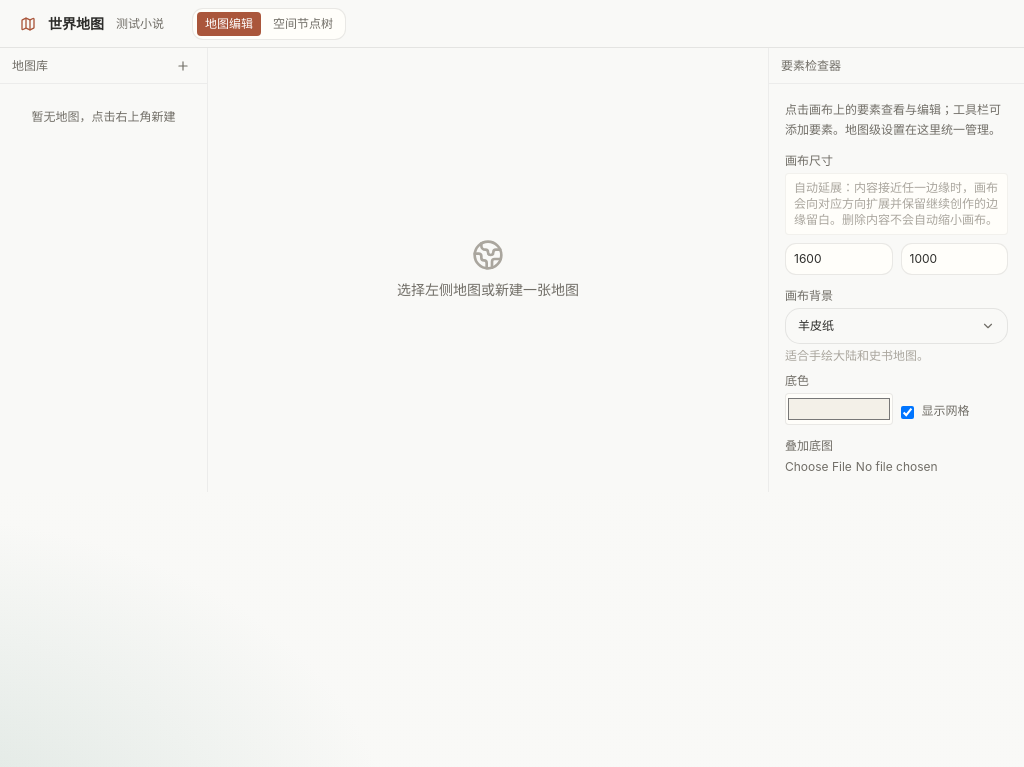
Test: MapEditor（地图阶段验收） › 空项目渲染地图库空态，可创建地图并进入编辑
Expected: the button "地图编辑" is shown, [197,12,261,36]
Expected: the text "暂无地图，点击右上角新建" is shown, [32,109,176,124]
Click the button titled "新建地图" at (183,66), box [171,54,195,78]
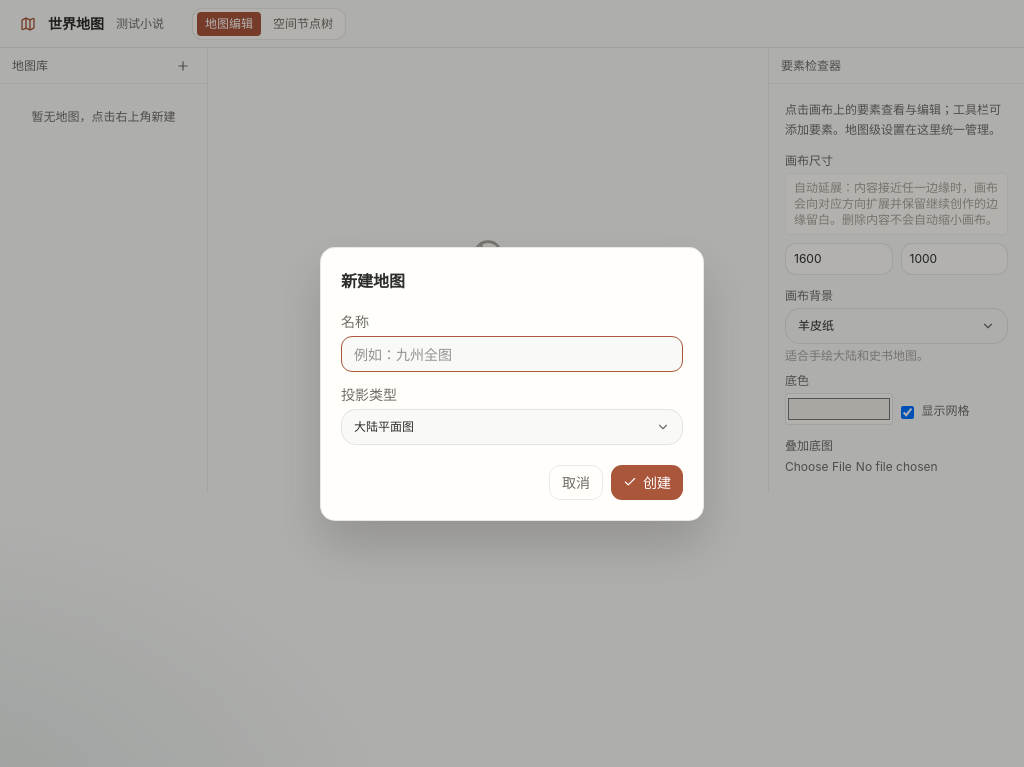
Type "九州" into the field with placeholder "例如：九州全图" at (512,354), box [341,336,683,372]
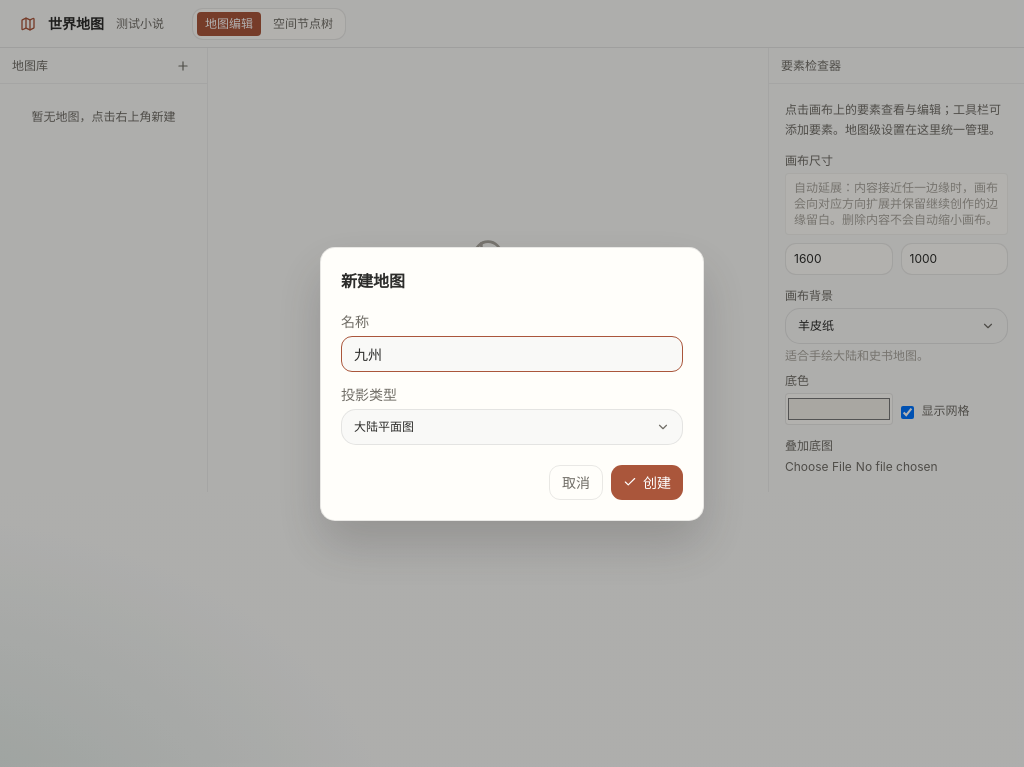
Click the button "创建" at (647,482), box [611,465,683,500]
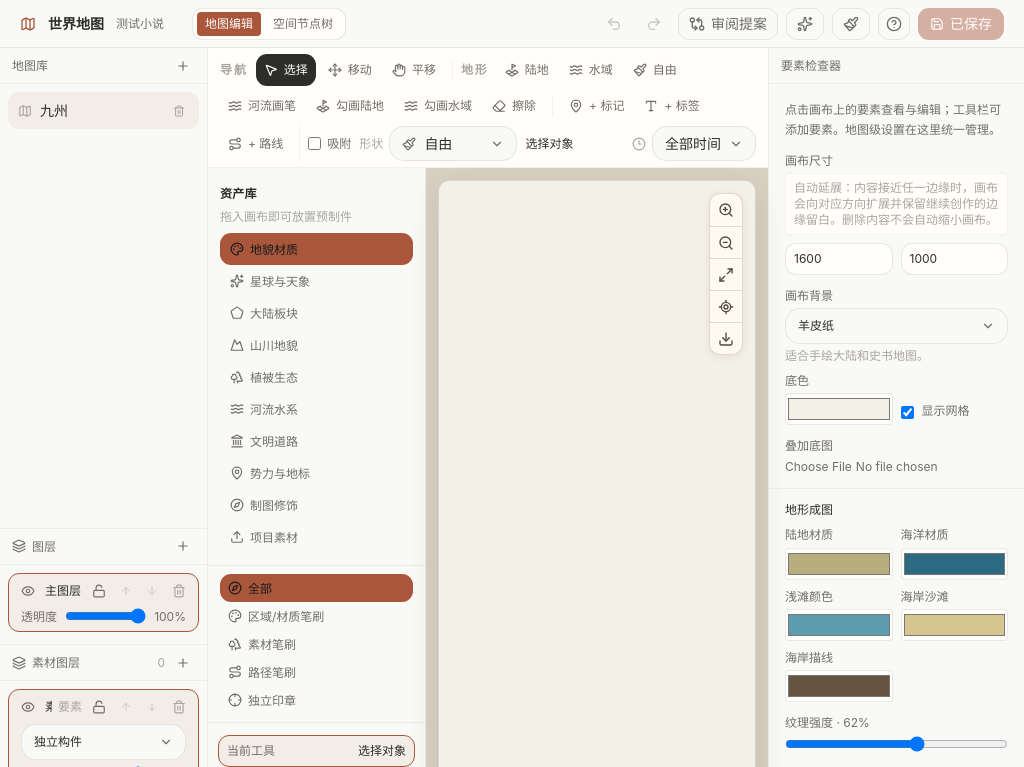
Expected: the button "+ 标记" is shown, [561,90,632,122]
Expected: the button "+ 路线" is shown, [220,128,291,160]
Expected: the text "九州" is shown, [40,102,68,119]
